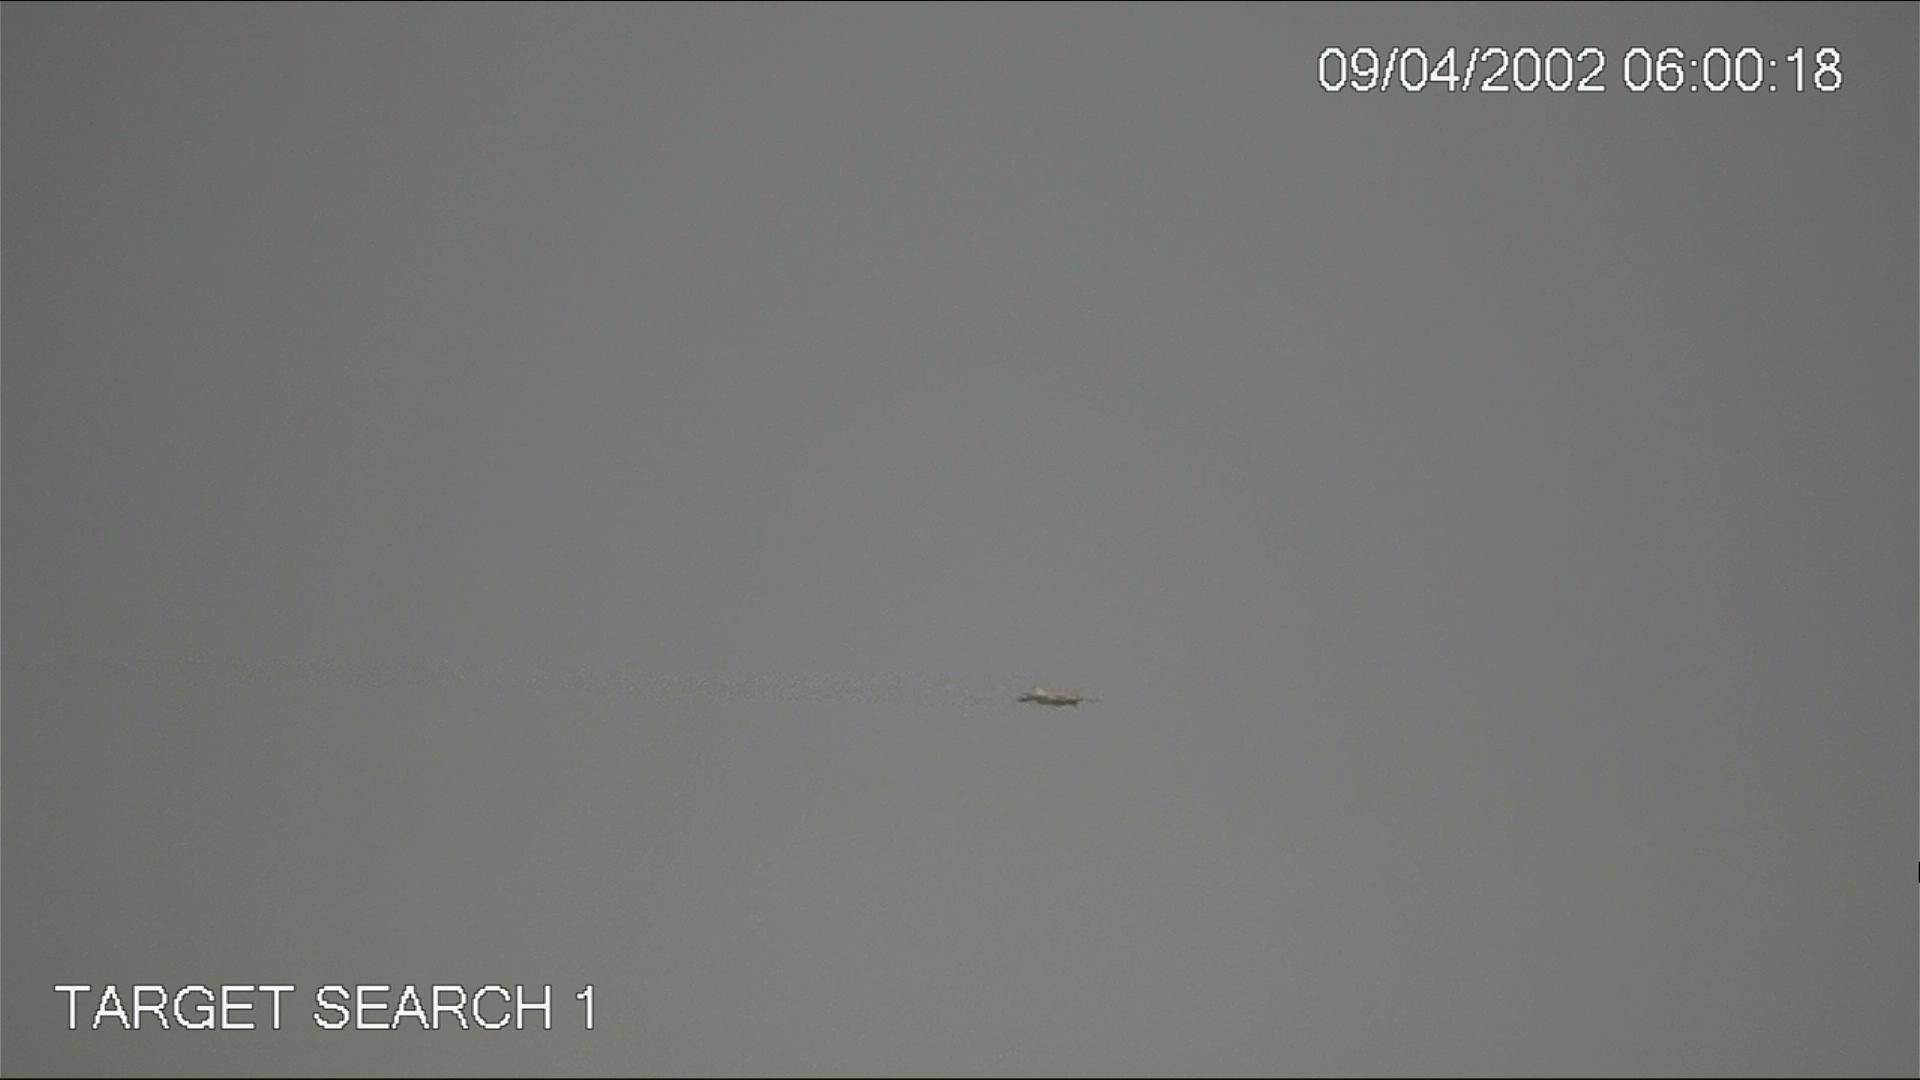SU_30: (1021, 682, 1087, 709)
